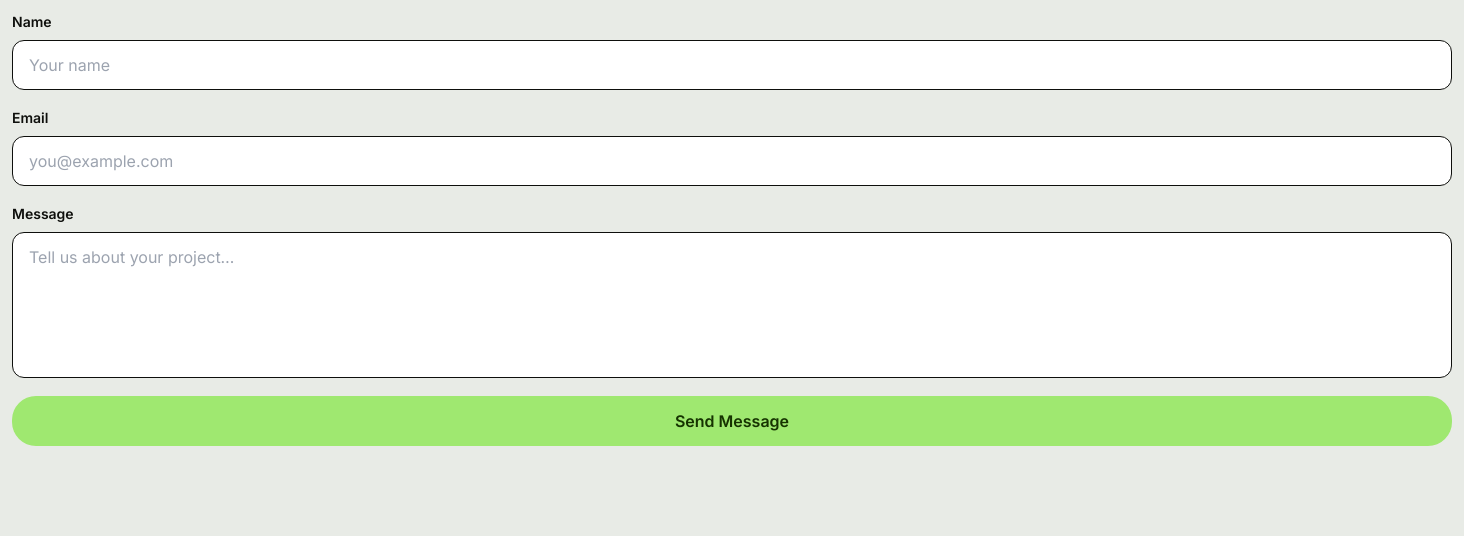
Test: ContactForm › shows inline errors and does not submit when fields are empty
Click the button "Send Message".
click(732, 421)  # box x1=12 y1=396 x2=1452 y2=446
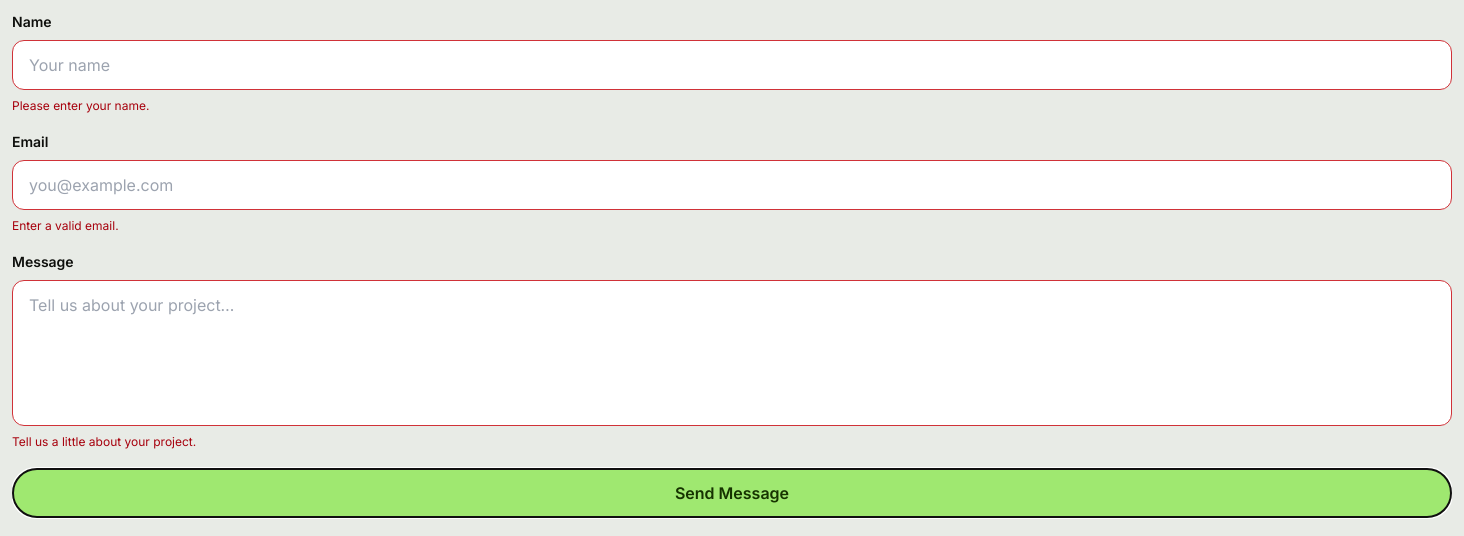
Check: the text "Please enter your name." is shown, box x1=12 y1=98 x2=149 y2=113
Check: the text "Enter a valid email." is shown, box x1=12 y1=218 x2=119 y2=233
Check: the text "Tell us a little about your project." is shown, box x1=12 y1=434 x2=196 y2=449
